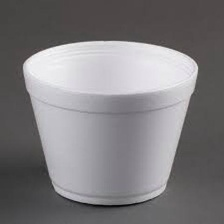paper_cup: (17, 34, 203, 210)
